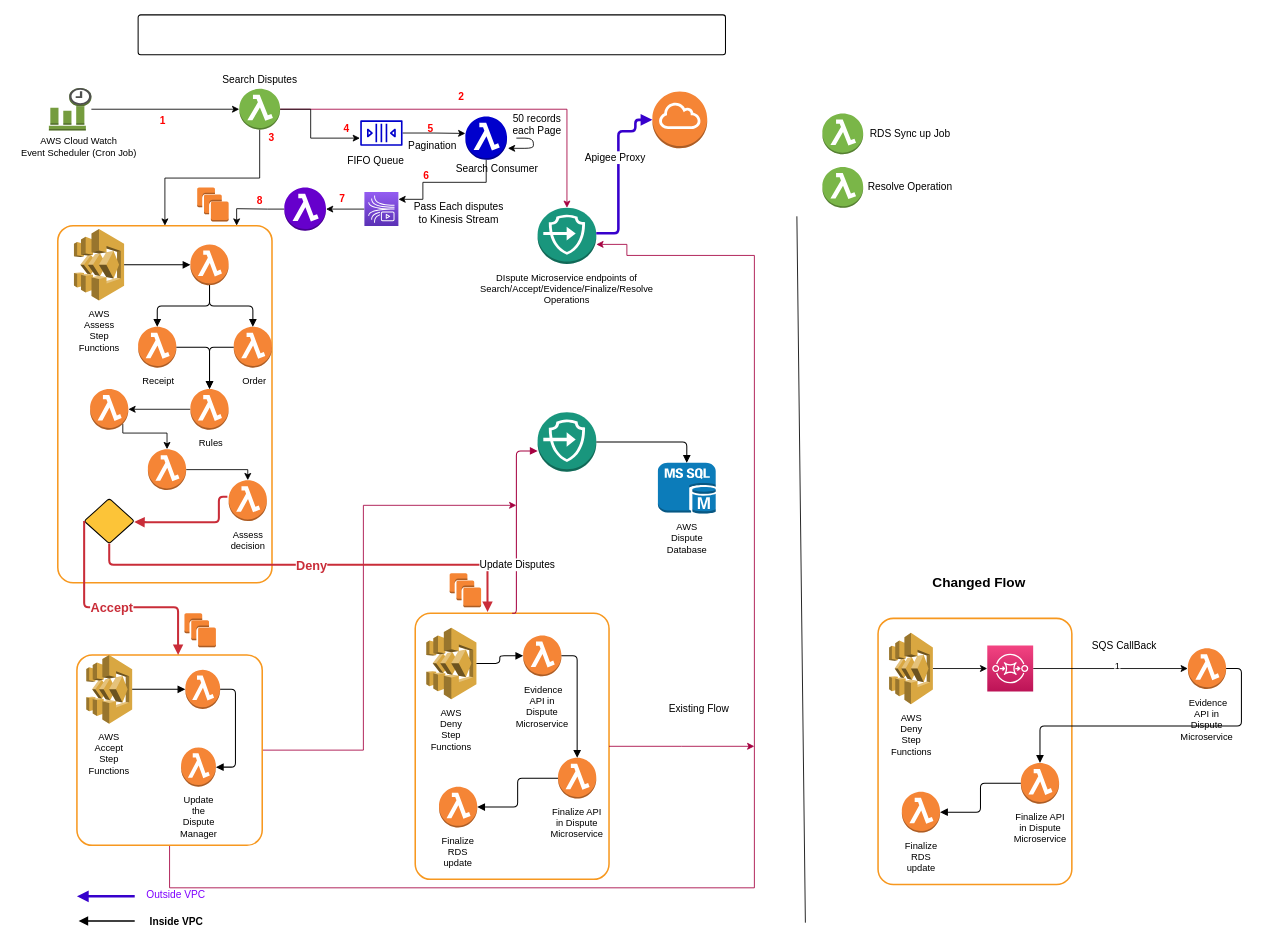
Image size: 1263x945. Some labels were removed from this diagram. Here are the shapes that lost their labels. From the top down, the centre of each, then its label:
At (x=431, y=34): "Dispute Postpaid Management Workflow".
At (x=679, y=119): "Braintree Payment Gateway".
At (x=209, y=264): "Payment Transaction".
At (x=108, y=409): "Booking Logistics".
At (x=566, y=441): "DIspute Manager Microservice endpoint of Create/complete/update Operations".
At (x=166, y=469): "Usage".
At (x=108, y=521): "Decision".
At (x=1009, y=668): "SQS".
At (x=202, y=689): "Accept Dispute".
